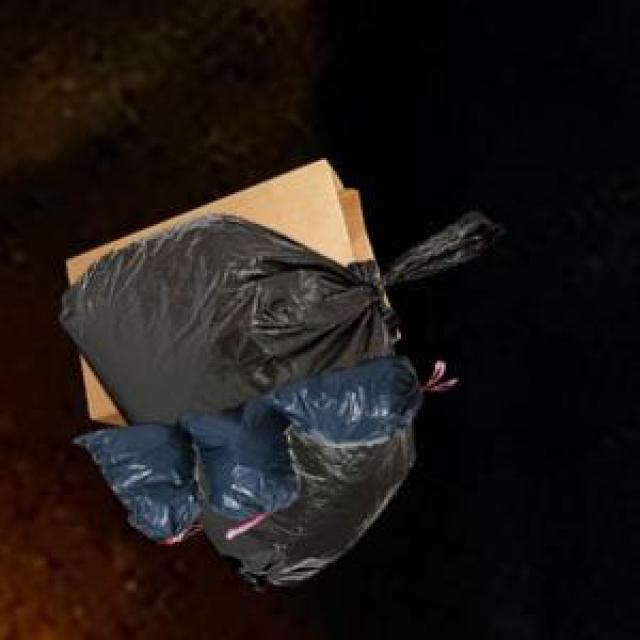miscellaneous trash: (56, 209, 499, 587), (72, 352, 418, 540)
paper: (62, 156, 369, 422)
